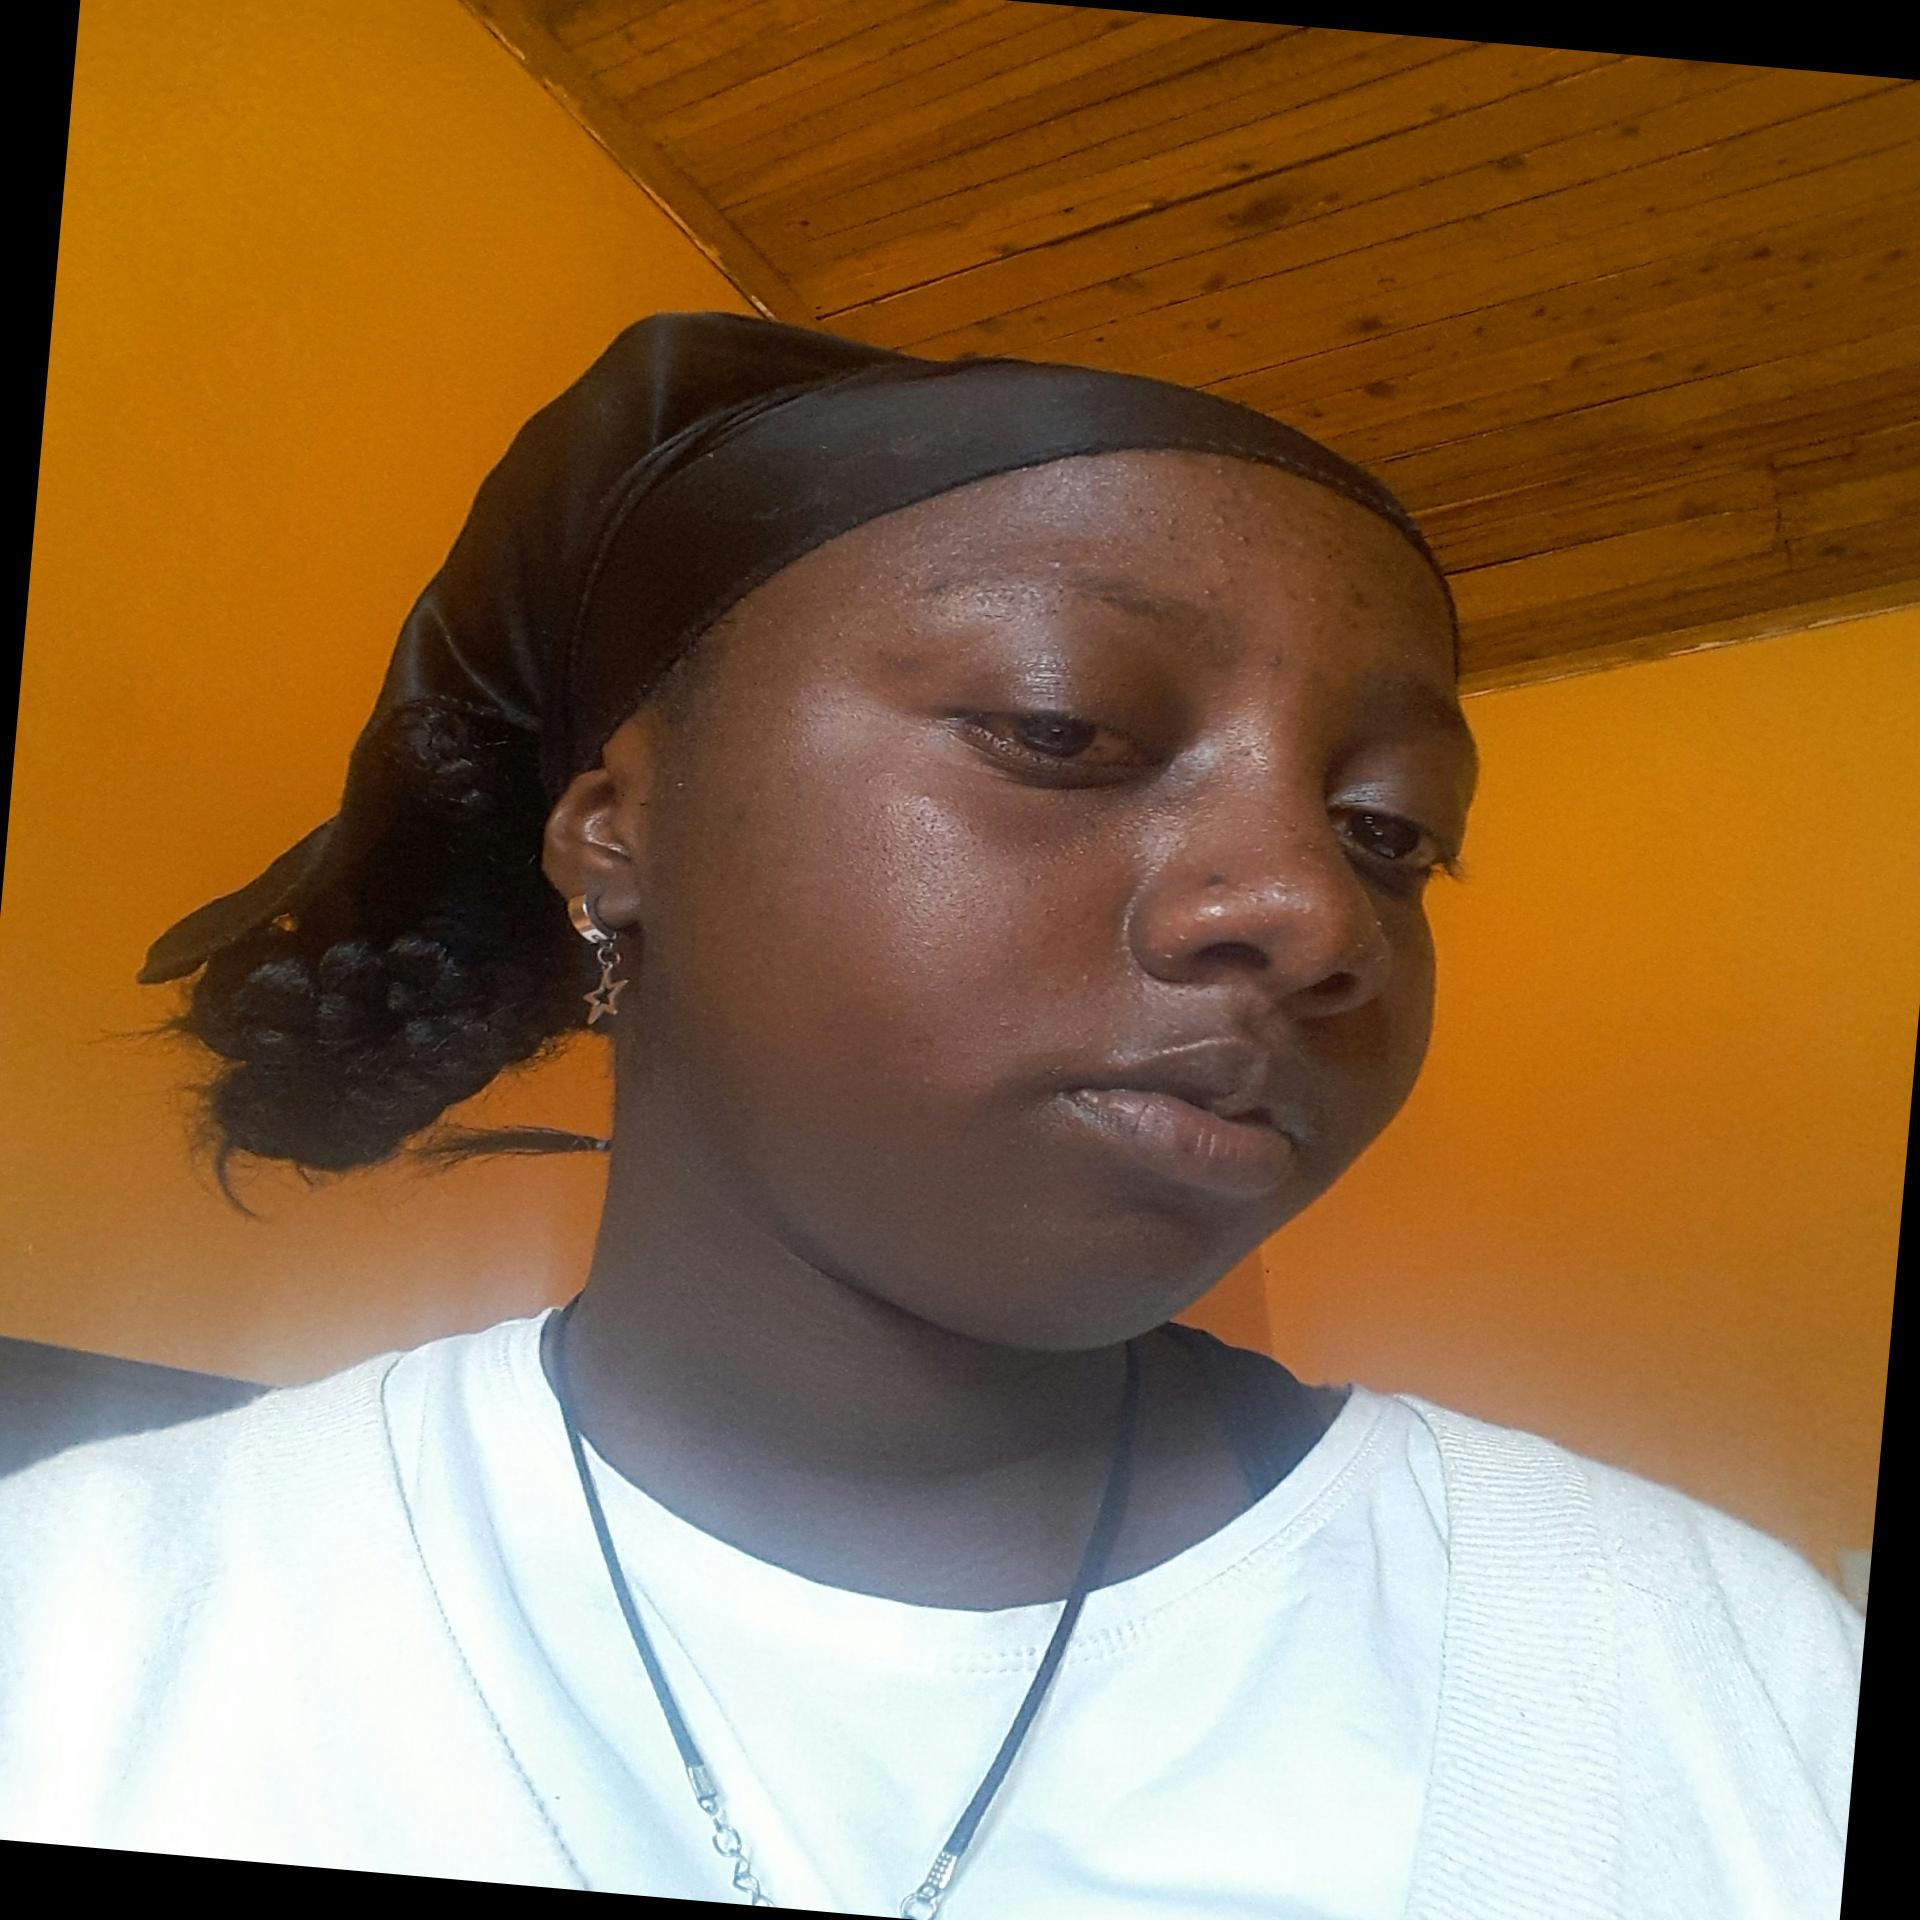Acne: (1127, 501, 1183, 529), (1194, 869, 1238, 897), (1282, 585, 1324, 614), (721, 796, 756, 828), (1201, 550, 1240, 571), (1261, 651, 1291, 675), (1224, 485, 1264, 503), (1231, 737, 1259, 761), (1319, 536, 1345, 561), (1350, 587, 1378, 608), (1041, 554, 1071, 573), (1190, 584, 1220, 601), (1208, 462, 1233, 482), (1208, 513, 1234, 529), (1315, 506, 1342, 520), (1233, 533, 1254, 547), (1303, 839, 1326, 851), (1275, 535, 1294, 547)
Dark Circles: (921, 726, 1173, 858)
